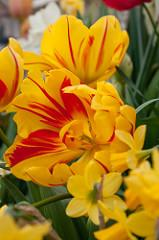tulip: (6, 67, 134, 190)
